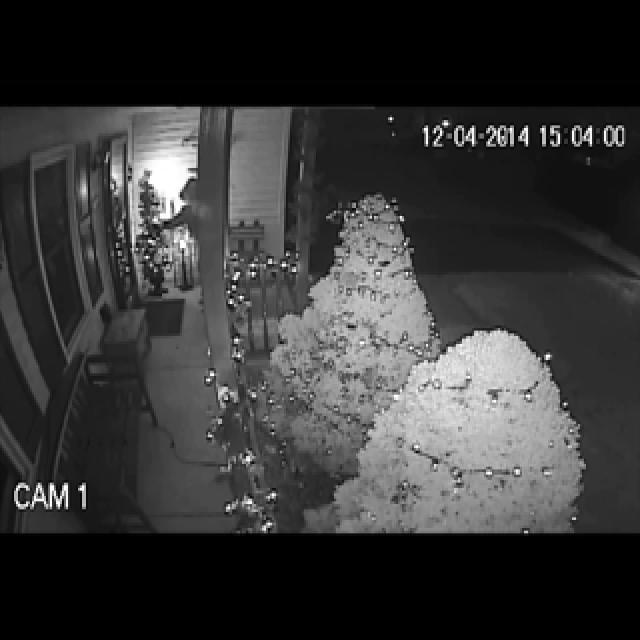arson: (112, 103, 243, 381)
